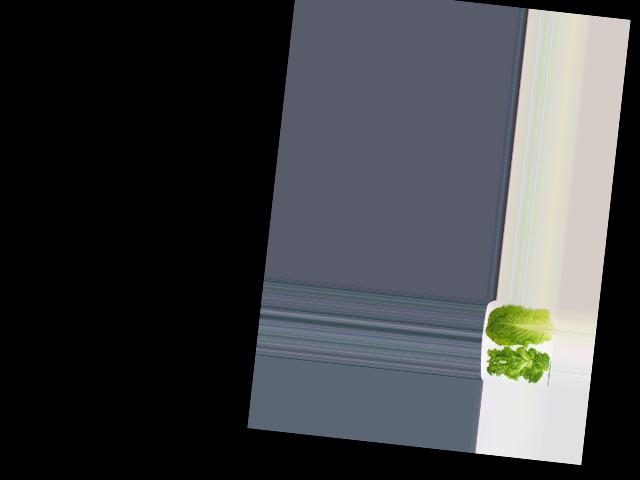lettuce: (483, 344, 548, 388)
